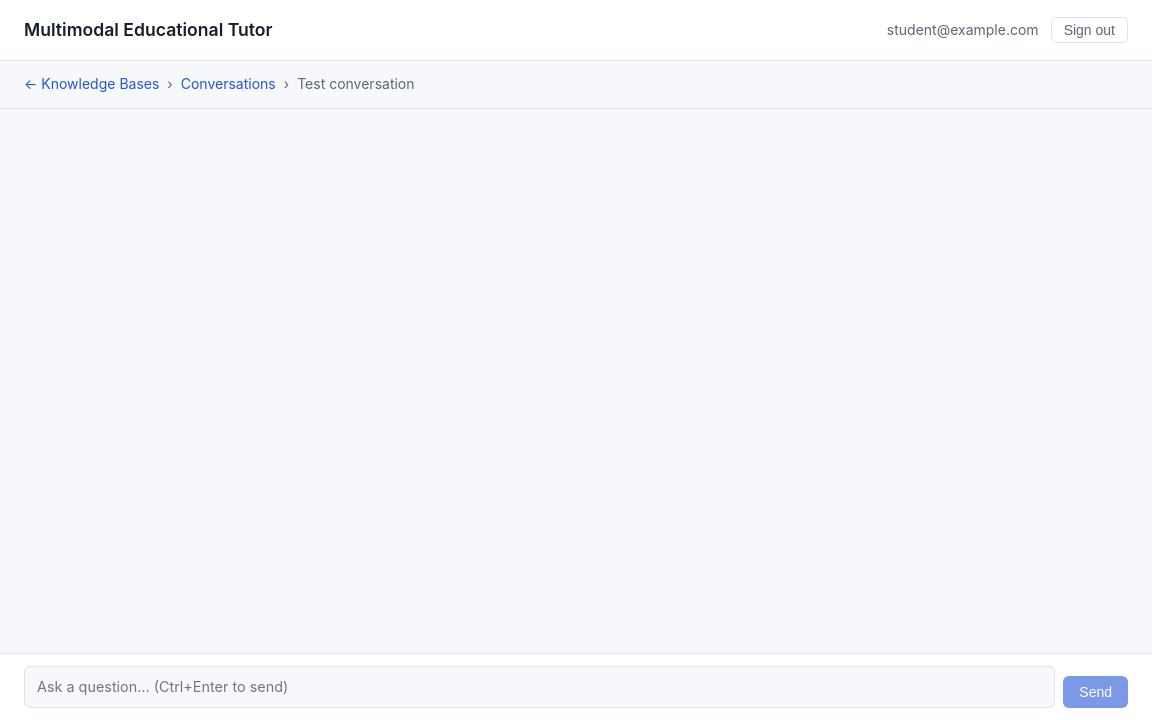
Test: Chat page › shows a Stop button while streaming and re-enables Send after stopping
In the text box named "Your question": (540, 687) left=24, top=666, right=1055, bottom=708, type "test question"
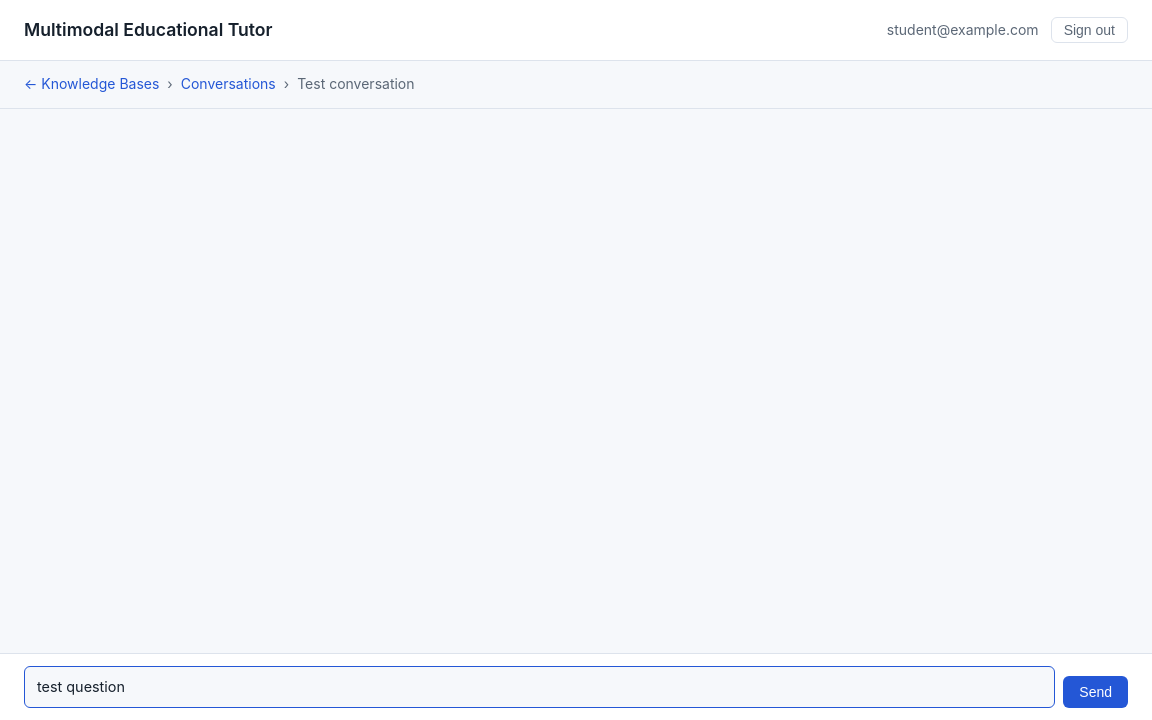
Click the button "Send": (1096, 692) left=1063, top=676, right=1128, bottom=708
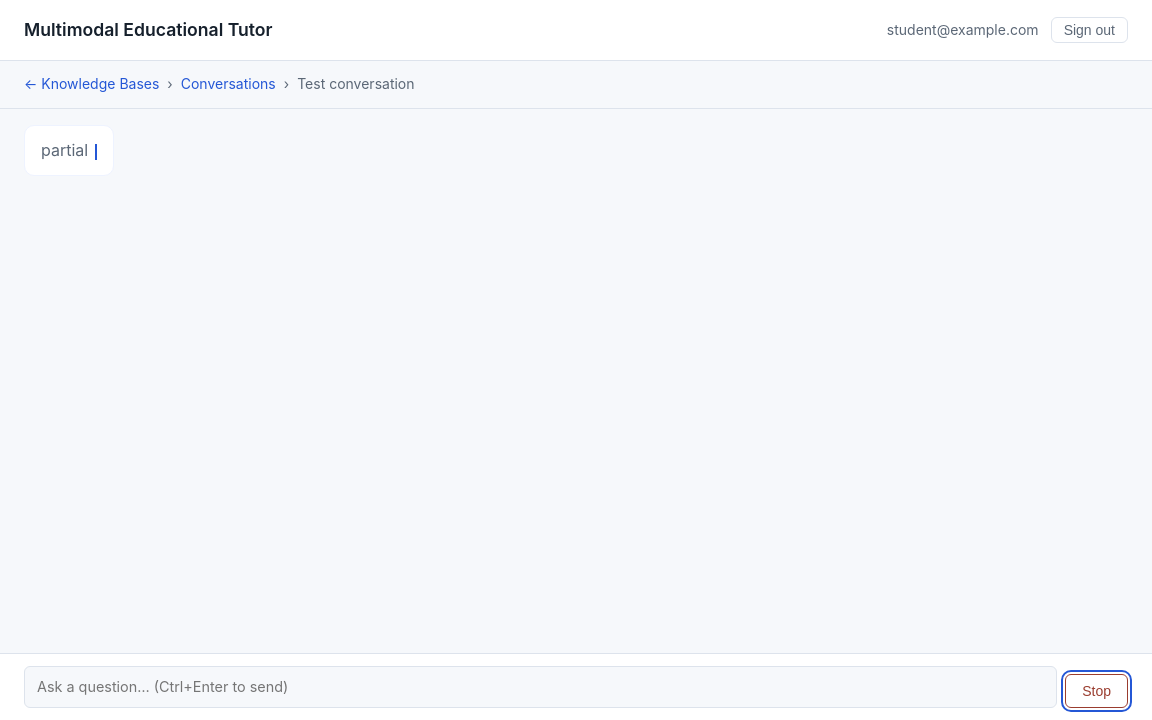
Now the button "Stop" is shown
Clicking Stop should abort the stream and restore the Send button.
Click the button "Stop": (1097, 691) left=1065, top=674, right=1128, bottom=708
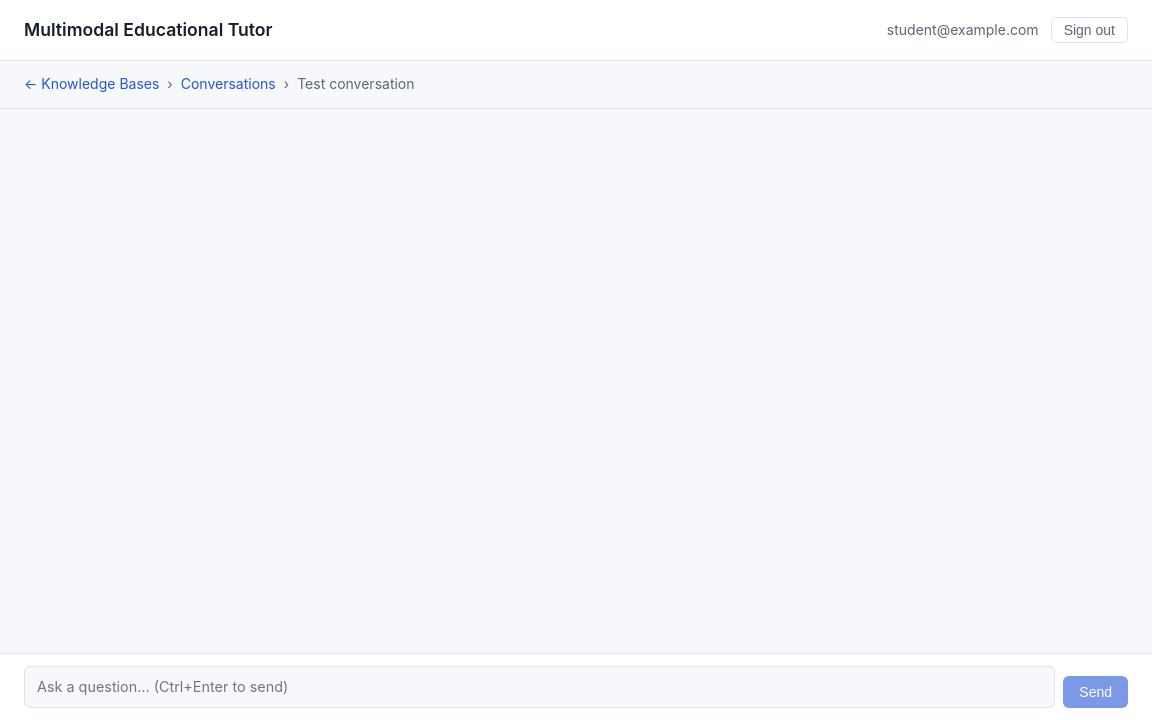
Now the button "Stop" is gone
Now the button "Send" is shown, box left=1063, top=676, right=1128, bottom=708
